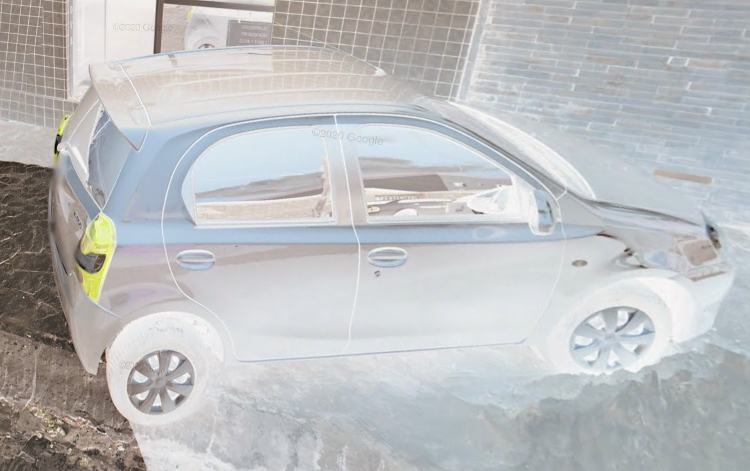car: (46, 20, 737, 425)
